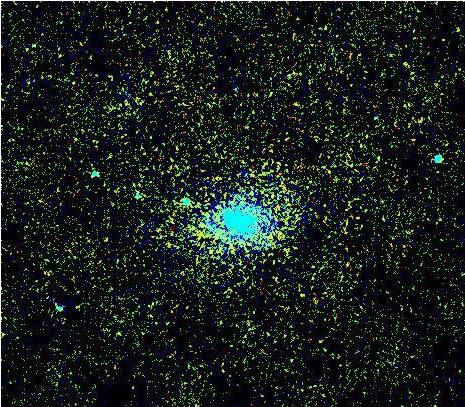star: (393, 53, 423, 83)
